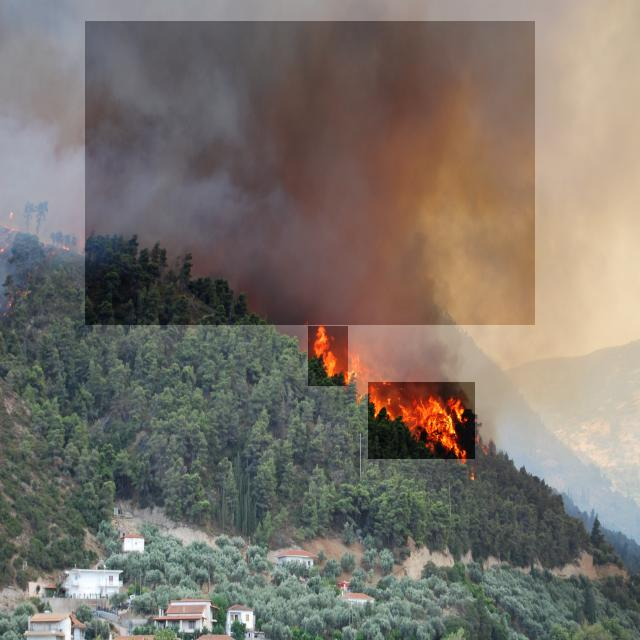Fire: (368, 382, 475, 459), (308, 326, 348, 386)
Smoke: (85, 21, 535, 325)
